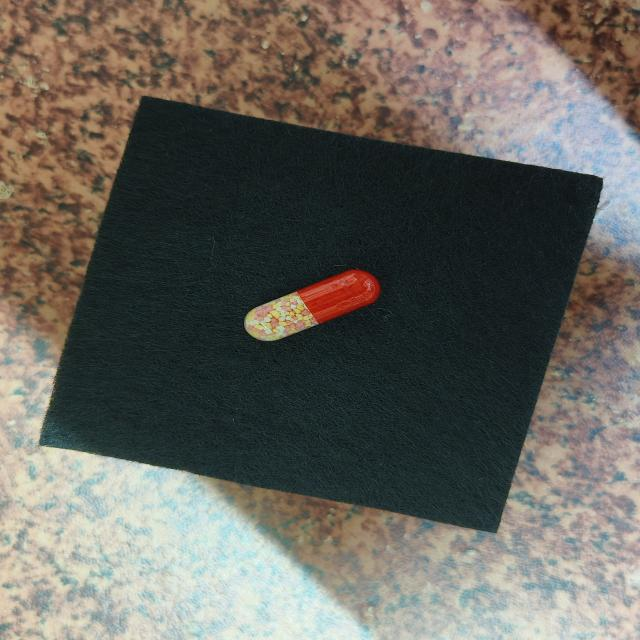Intact Capsule: (244, 269, 380, 341)
